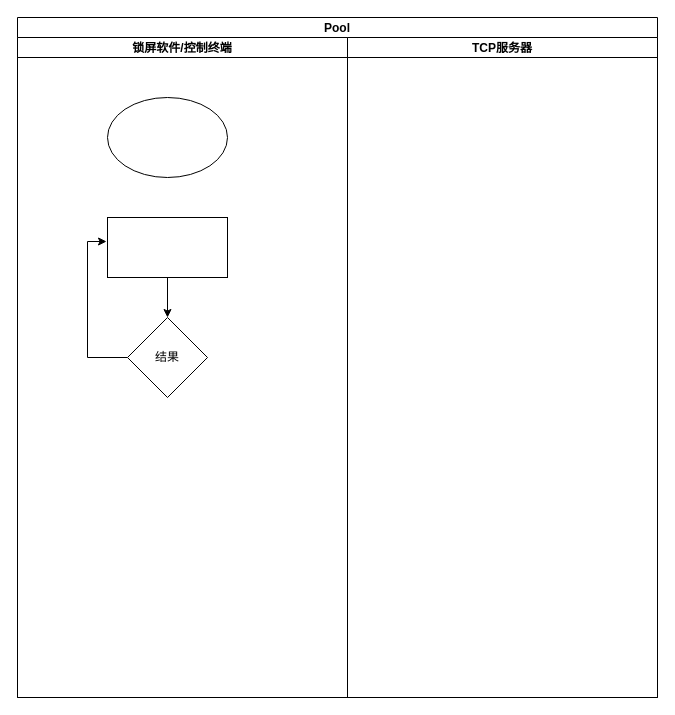
Image size: 675x715. Some labels were removed from this diagram. The shapes that lost their labels are listed below. From the top down, each one's centre as x and y in pixels, then its label:
At (x=167, y=137): "开机/上电".
At (x=167, y=247): "尝试与服务器建立连接".
